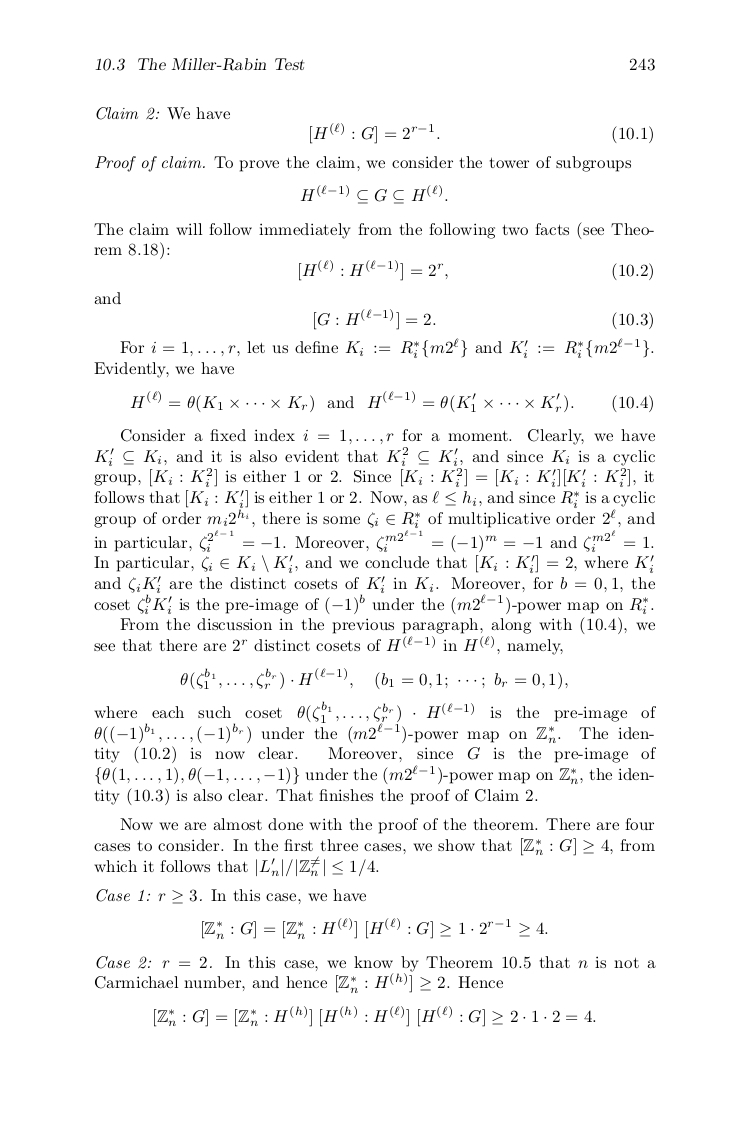formula: (130, 390, 652, 413), (154, 1005, 595, 1027), (180, 667, 567, 690), (299, 259, 652, 281), (202, 917, 547, 939), (310, 122, 652, 144), (314, 308, 652, 330), (300, 184, 447, 204)
